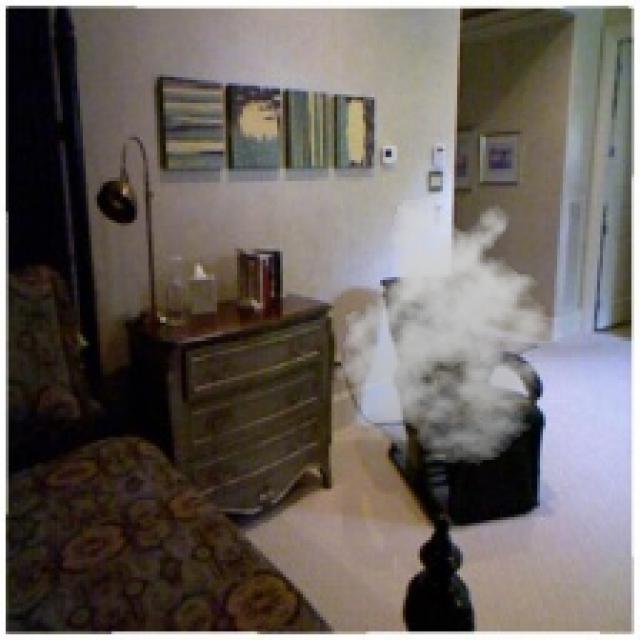smoke: (329, 194, 574, 466)
